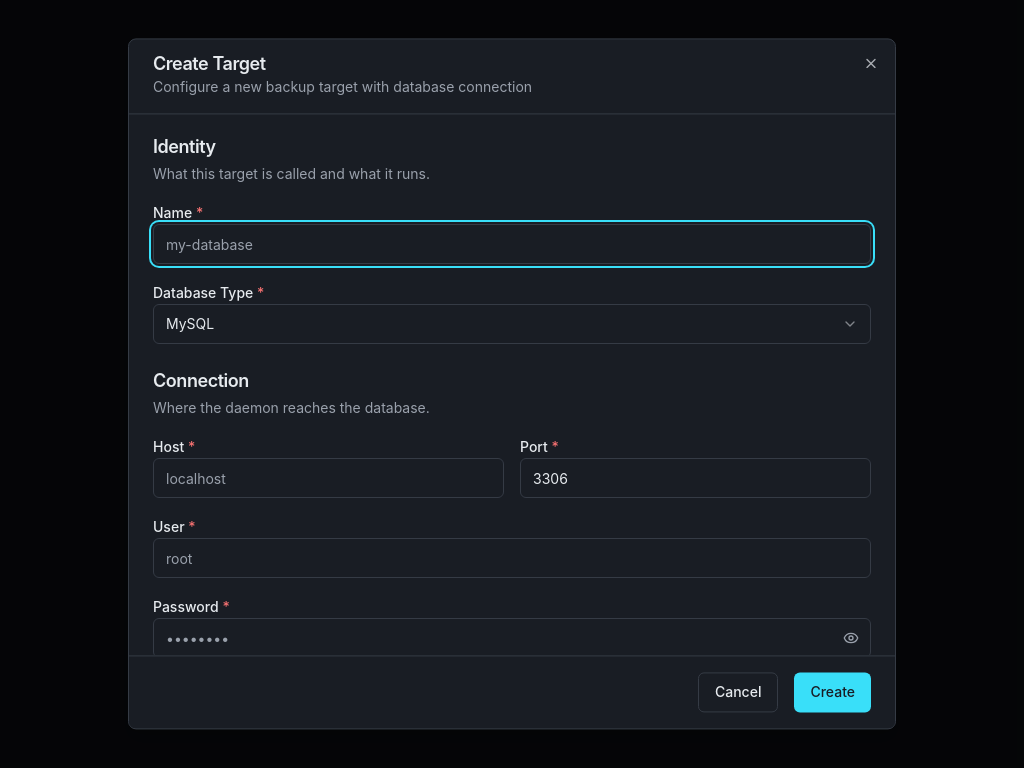
Test: TargetForm › validation › reports every missing field instead of submitting
What coordinates should you click on to do the following:
click the button "Create"
I would click on:
 (833, 693)
Its box is [794, 673, 871, 713].
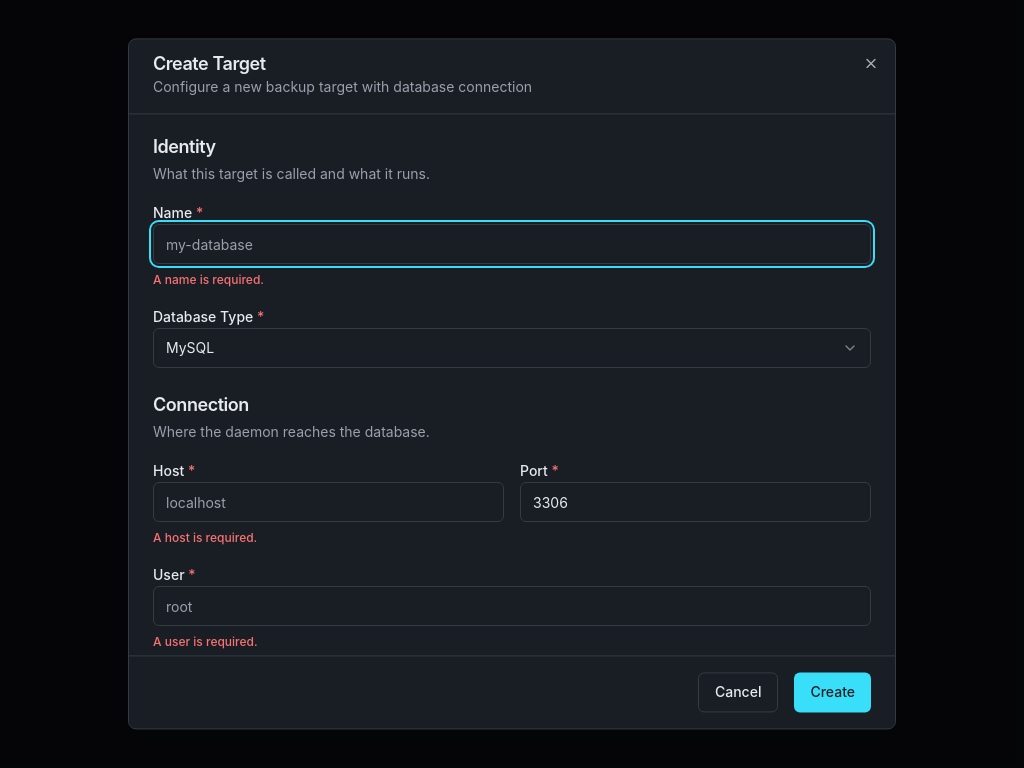
Now the text "A name is required." is shown, box [153, 272, 264, 287]
Now the text "A host is required." is shown, box [153, 530, 257, 545]
Now the text "A user is required." is shown, box [153, 634, 258, 649]
